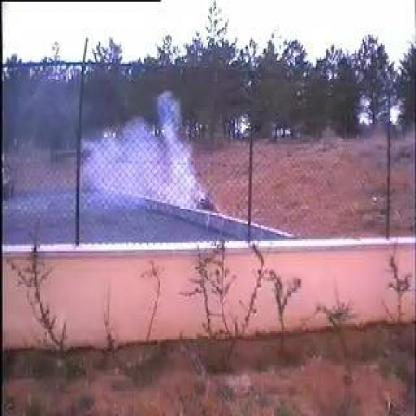-: (72, 86, 208, 210)
